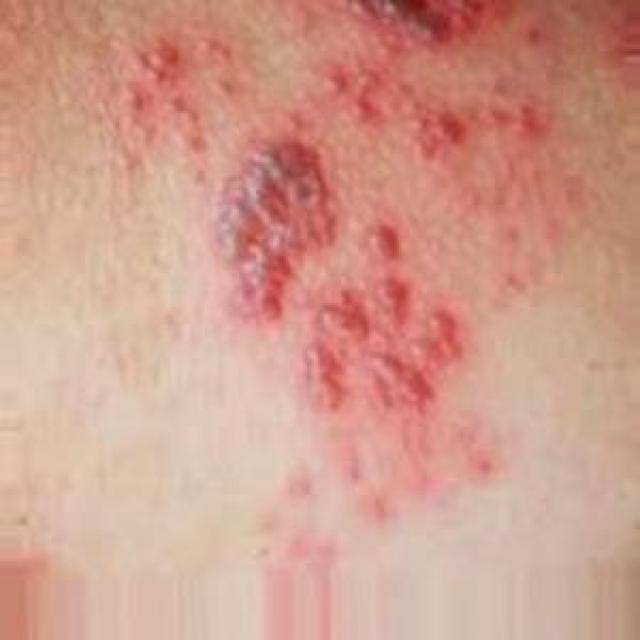Shingles: (119, 0, 504, 428)
